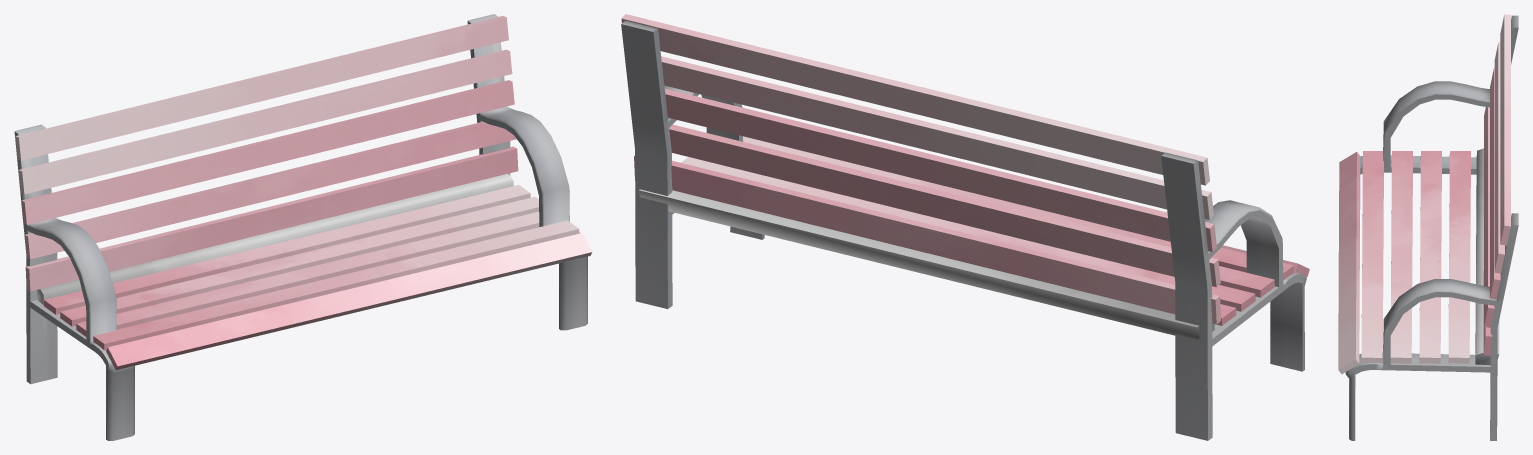
Rendered from Bench.fbx.
The picture shows the model from 3 angles, left to right: view 1: azimuth 30°, elevation 25°; view 2: azimuth 150°, elevation 25°; view 3: azimuth 270°, elevation 25°; orthographic projection. The views are drawn at different scales.
Parts seen in each view (by area): view 1: SM_Bench; view 2: SM_Bench; view 3: SM_Bench.
Part boxes in pixels (bbox=[...]): SM_Bench: bbox=[14, 14, 592, 440]; SM_Bench: bbox=[621, 14, 1309, 440]; SM_Bench: bbox=[1338, 14, 1518, 440].
Bounding box in the file's own units: 277 × 132 × 99.2.
